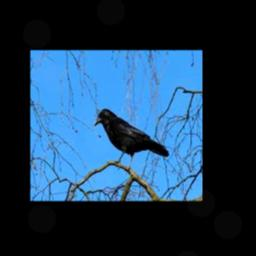Crow: (93, 107, 168, 170)
